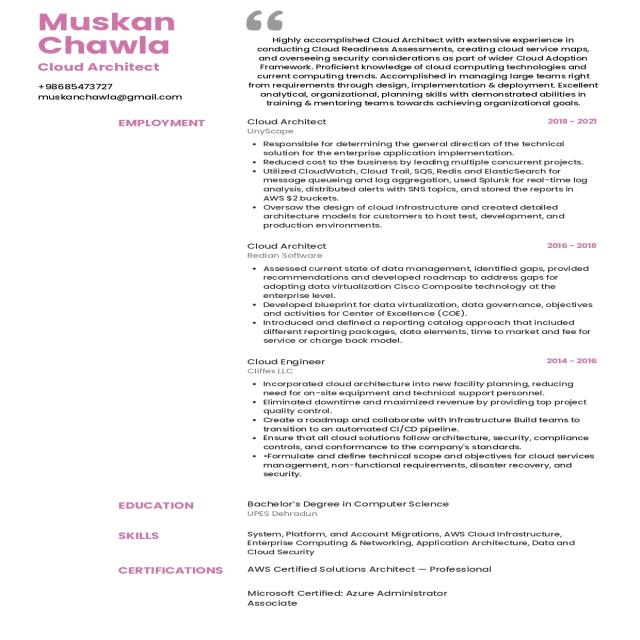contact: (28, 77, 197, 104)
education: (112, 496, 450, 525)
experience: (115, 117, 620, 480)
header: (26, 5, 180, 73)
skills: (118, 529, 594, 558)
summary: (248, 32, 608, 114)
